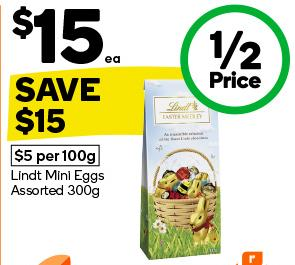description_block: (4, 167, 114, 203)
price_main: (3, 1, 135, 69)
product_image_block: (134, 76, 230, 264)
promo_text_block: (3, 72, 137, 142)
unit_price_block: (5, 143, 109, 168)
